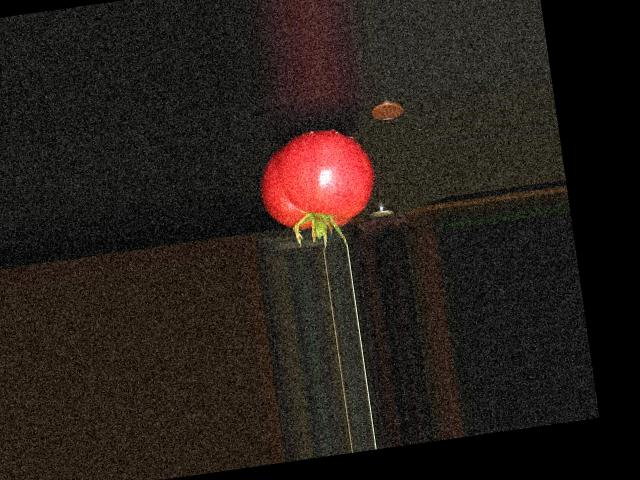tomato: (252, 123, 379, 236)
